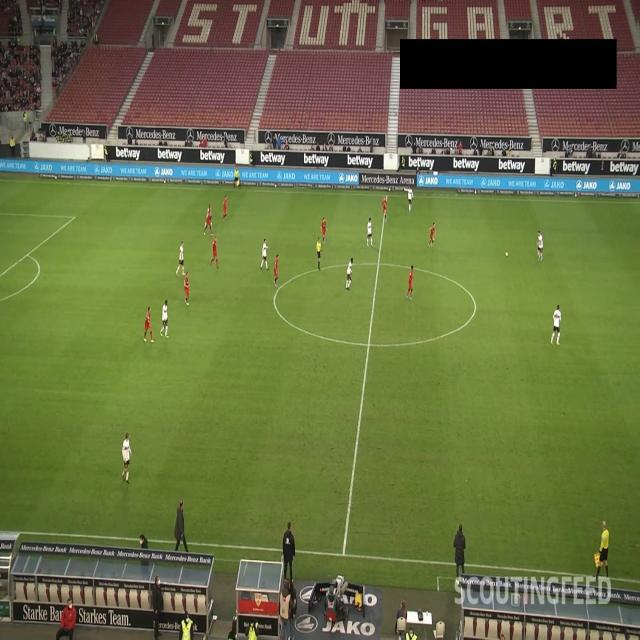ball: (505, 250, 509, 258)
